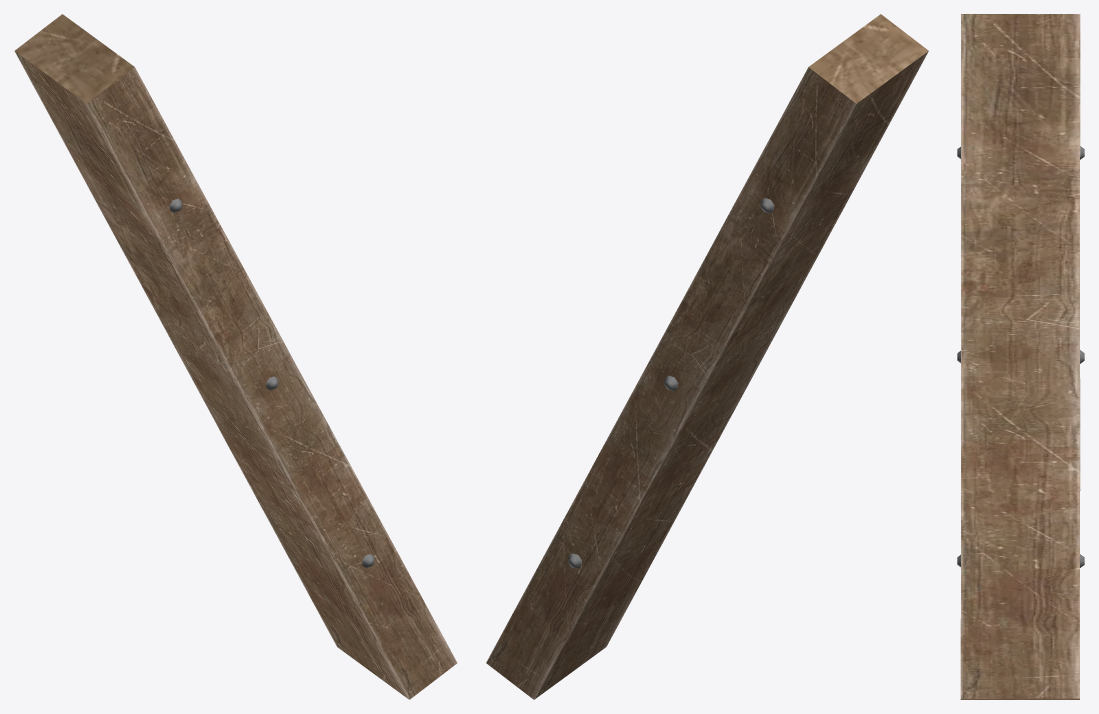
3 views of the same model, side by side, from view 1: azimuth 30°, elevation 25°; view 2: azimuth 150°, elevation 25°; view 3: azimuth 270°, elevation 25° (orthographic). The views are drawn at different scales.
Parts seen in each view (by area): view 1: SM_BB_T3_Beam_Thin_Large_Steep_LOD0; view 2: SM_BB_T3_Beam_Thin_Large_Steep_LOD0; view 3: SM_BB_T3_Beam_Thin_Large_Steep_LOD0.
Part boxes in pixels (box(x1,y1,x2,y2)): SM_BB_T3_Beam_Thin_Large_Steep_LOD0: box(14, 14, 457, 699); SM_BB_T3_Beam_Thin_Large_Steep_LOD0: box(486, 14, 928, 699); SM_BB_T3_Beam_Thin_Large_Steep_LOD0: box(957, 14, 1084, 699).
Size of the model in its own units: 1.72 by 3.11 by 0.6247.
1 material, 1 textured.
